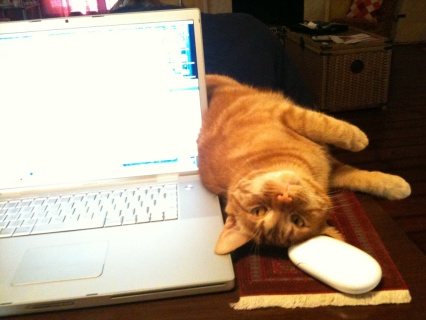Cat: (194, 73, 410, 254)
